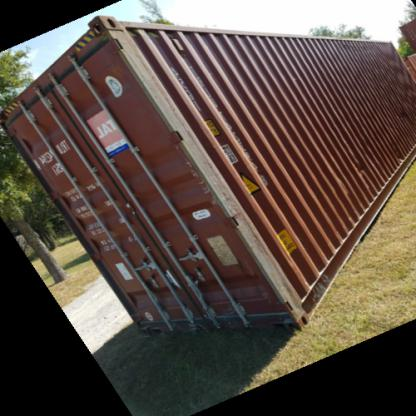Damage: (348, 154, 373, 178), (234, 249, 252, 281), (391, 104, 412, 123), (389, 143, 409, 162)
